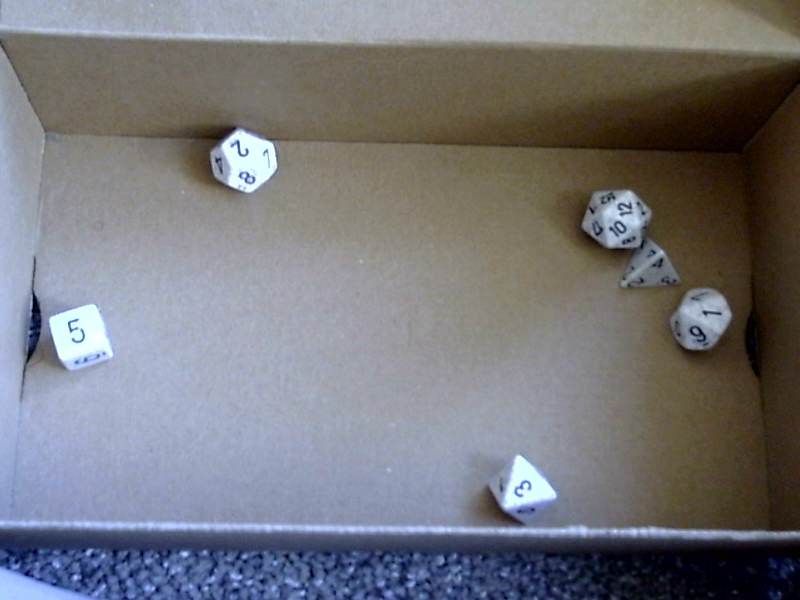d10 1: (666, 288, 737, 356)
d12 2: (202, 117, 285, 196)
d20 12: (577, 185, 658, 252)
d4 4: (618, 237, 689, 293)
d6 5: (39, 293, 118, 376)
d8 3: (478, 445, 569, 529)
